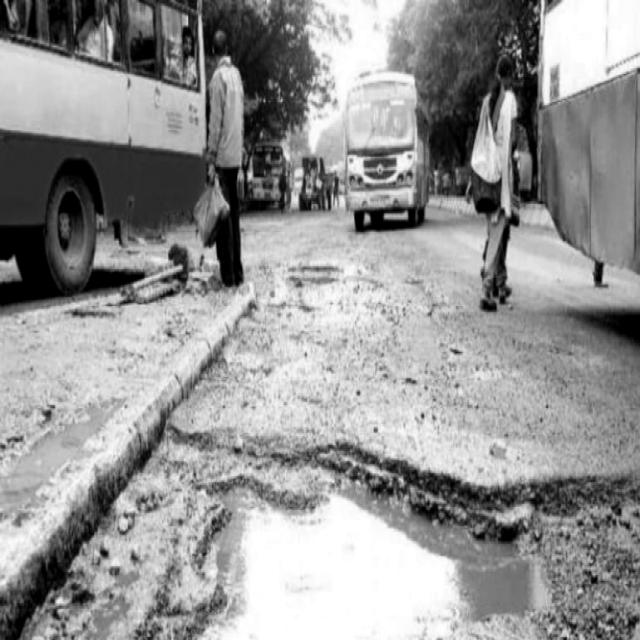pathole: (22, 429, 331, 638), (203, 462, 545, 637), (316, 440, 640, 539), (0, 408, 114, 521), (289, 265, 340, 287), (490, 438, 506, 460), (450, 348, 462, 356)
